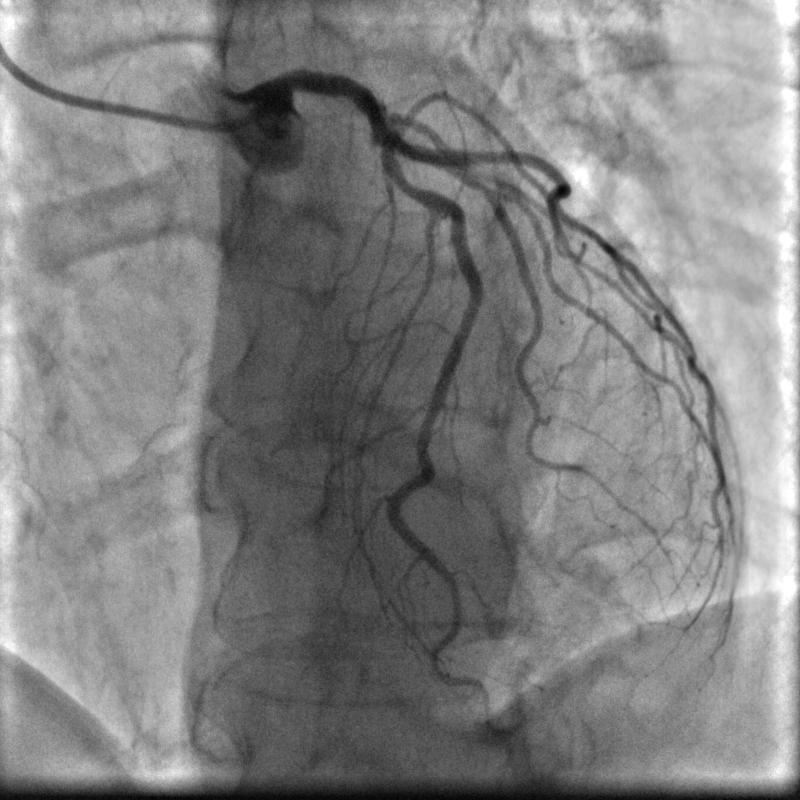Stenosis: (391, 168, 420, 196)
